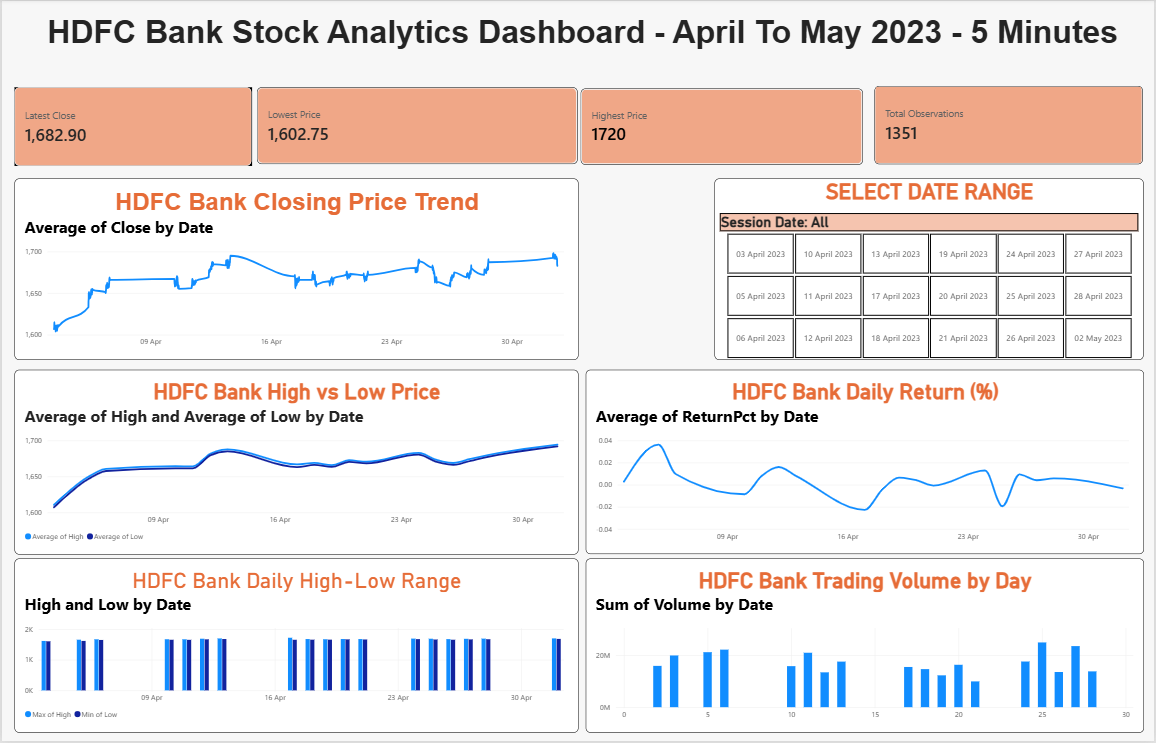

The dashboard page shown, as its layout file describes it:
{"tool":"powerbi","page":{"name":"Executive Overview","canvas":[1920,1232],"ordinal":0},"visuals":[{"type":"cardVisual","fields":{"Data":["HDFCBANK_Observations.Latest Close"]},"box":[20,142.9,395.7,131.4],"z":0},{"type":"cardVisual","fields":{"Data":["HDFCBANK_Observations.Highest Price"]},"box":[965,145,470,127.5],"z":1000},{"type":"cardVisual","fields":{"Data":["HDFCBANK_Observations.Lowest Price"]},"box":[426,144,534,128],"z":2000},{"type":"cardVisual","fields":{"Data":["HDFCBANK_Observations.Total Observations"]},"box":[1455,142.5,447.5,130],"z":3000},{"type":"lineChart","title":"HDFC Bank Closing Price Trend","fields":{"Category":["HDFCBANK_Observations.Date"],"Y":["Avg(HDFCBANK_Observations.Close)"]},"box":[20,295,940,302.5],"z":4000},{"type":"clusteredColumnChart","title":"HDFC Bank Trading Volume by Day","fields":{"Category":["HDFCBANK_Sessions.SessionDate.Variation.Date Hierarchy.Month","HDFCBANK_Sessions.SessionDate.Variation.Date Hierarchy.Day"],"Y":["Sum(HDFCBANK_Sessions.Volume)"]},"box":[972.5,930,930,290],"z":5000},{"type":"lineChart","title":"HDFC Bank High vs Low Price","fields":{"Category":["HDFCBANK_Observations.SessionDate"],"Y":["Avg(HDFCBANK_Observations.High)","Avg(HDFCBANK_Observations.Low)"]},"box":[20,615,940,308],"z":6000},{"type":"lineChart","title":"HDFC Bank Daily Return (%)","fields":{"Category":["HDFCBANK_Observations.SessionDate"],"Y":["Avg(HDFCBANK_Observations.ReturnPct)"]},"box":[972.5,615,930,307.5],"z":7000},{"type":"clusteredColumnChart","title":"HDFC Bank Daily High-Low Range","fields":{"Category":["HDFCBANK_Observations.SessionDate"],"Y":["Max(HDFCBANK_Observations.High)","Min(HDFCBANK_Observations.Low)"]},"box":[20,930,940,290],"z":8000},{"type":"slicer","title":"SELECT DATE RANGE","fields":{"Values":["HDFCBANK_Observations.SessionDate"]},"box":[1187.5,295,715,302.5],"z":9000},{"type":"image","box":[0,0,1920.8,118.8],"z":10000},{"type":"image","box":[972.3,295.2,198.2,303.5],"z":11000}]}

Visuals, with their boxes in screenshot pixels (x1, y1, x2, y2), scaled from the page's 1920x1232 canvas onto the 1156x743 screenshot:
cardVisual - HDFCBANK_Observations.Latest Close: bbox=(12, 86, 250, 165)
cardVisual - HDFCBANK_Observations.Highest Price: bbox=(581, 87, 864, 164)
cardVisual - HDFCBANK_Observations.Lowest Price: bbox=(256, 87, 578, 164)
cardVisual - HDFCBANK_Observations.Total Observations: bbox=(876, 86, 1145, 164)
"HDFC Bank Closing Price Trend" lineChart: bbox=(12, 178, 578, 360)
"HDFC Bank Trading Volume by Day" clusteredColumnChart: bbox=(586, 561, 1145, 736)
"HDFC Bank High vs Low Price" lineChart: bbox=(12, 371, 578, 557)
"HDFC Bank Daily Return (%)" lineChart: bbox=(586, 371, 1145, 556)
"HDFC Bank Daily High-Low Range" clusteredColumnChart: bbox=(12, 561, 578, 736)
"SELECT DATE RANGE" slicer: bbox=(715, 178, 1145, 360)
image: bbox=(0, 0, 1155, 72)
image: bbox=(585, 178, 705, 361)
